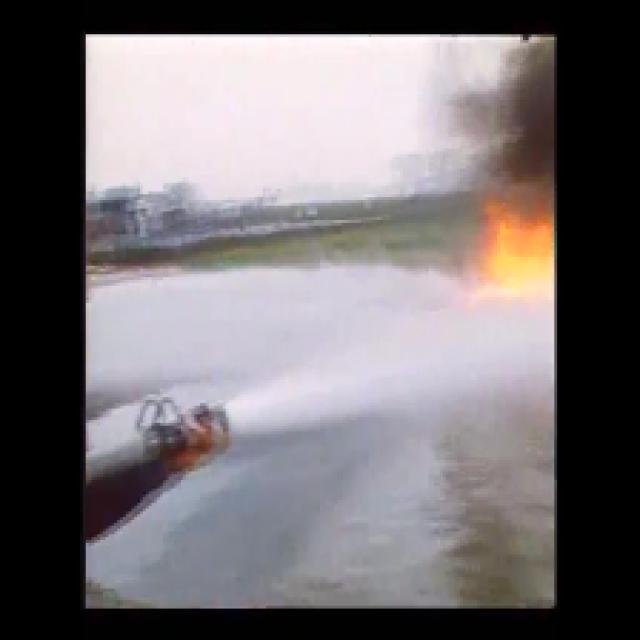Fire: (483, 222, 551, 287)
Smoke: (487, 50, 552, 186)
